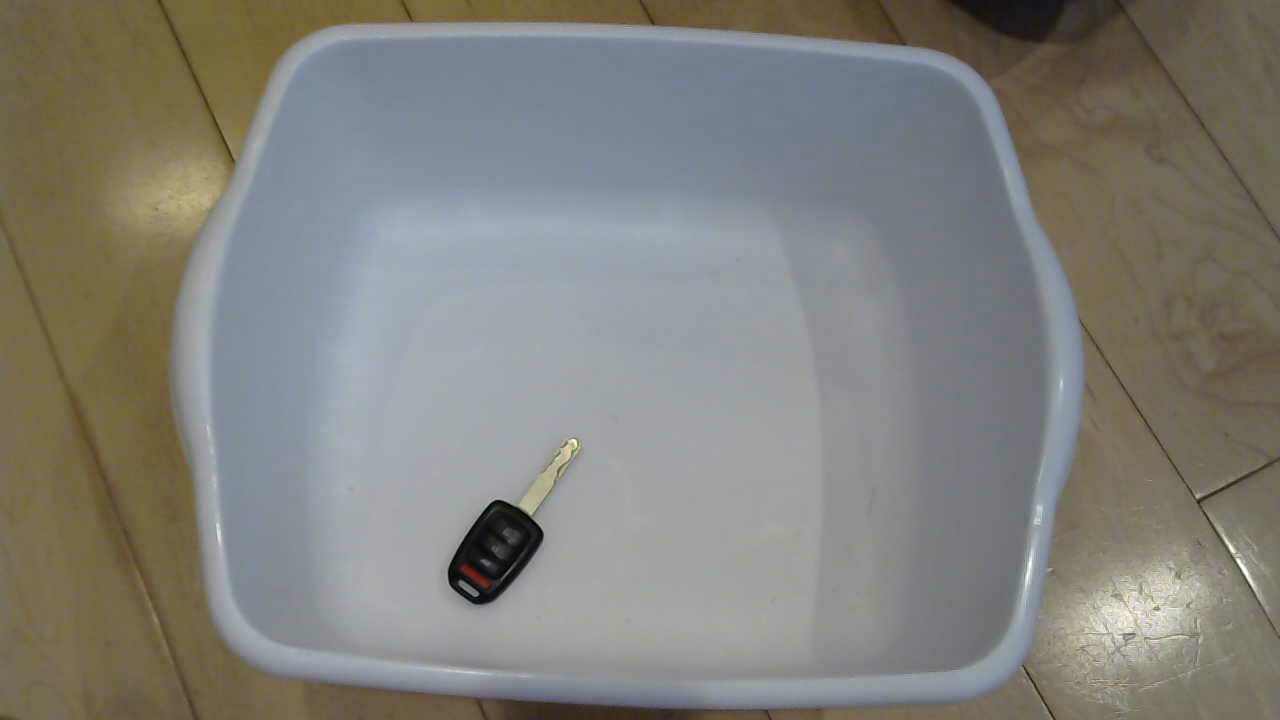key: (446, 436, 600, 610)
